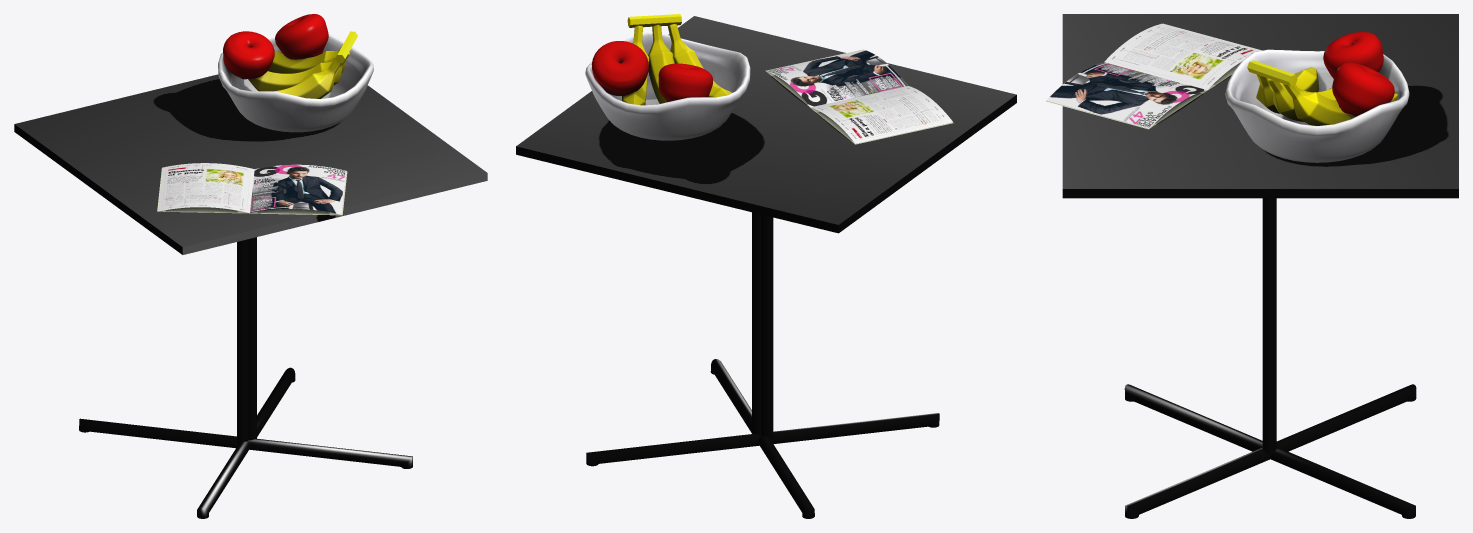
File: square dining table.fbx
The picture shows the model from 3 angles, left to right: view 1: azimuth 30°, elevation 25°; view 2: azimuth 150°, elevation 25°; view 3: azimuth 270°, elevation 25°; orthographic projection. The views are drawn at different scales.
Parts seen in each view (by area): view 1: Object002, Object001; view 2: Object002, Object001; view 3: Object002, Object001.
Part boxes in pixels (x1,y1,x2,y2): Object002: (14, 34, 487, 518); Object001: (157, 14, 357, 215); Object002: (516, 16, 1016, 518); Object001: (591, 14, 953, 144); Object002: (1062, 14, 1458, 518); Object001: (1045, 23, 1398, 129).
Size of the model in its own units: 59.48 by 71.22 by 59.43.
Materials: 2 (2 with a texture image).
